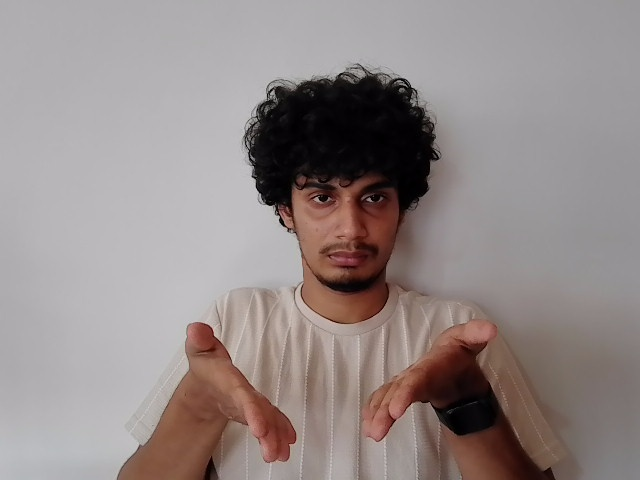here: (182, 322, 502, 458)
